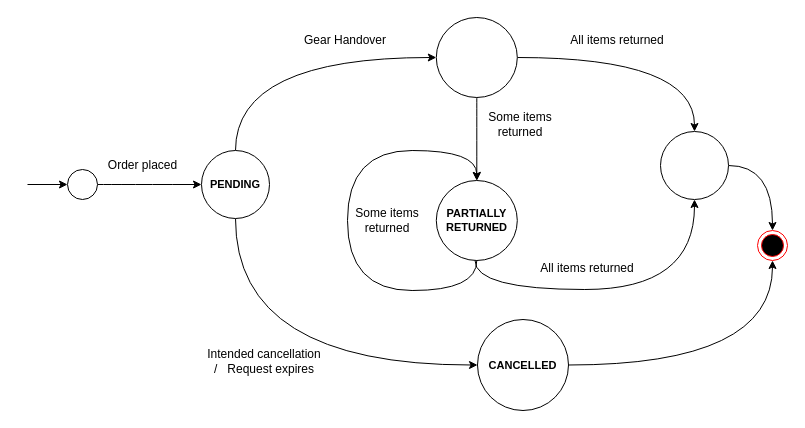
The diagram is 805 pixels wide and 428 high, and some of its shapes have lost their labels. Each missing label, with the centre of its shape:
CONFIRMED: point (476, 57)
RETURNED: point (694, 165)
